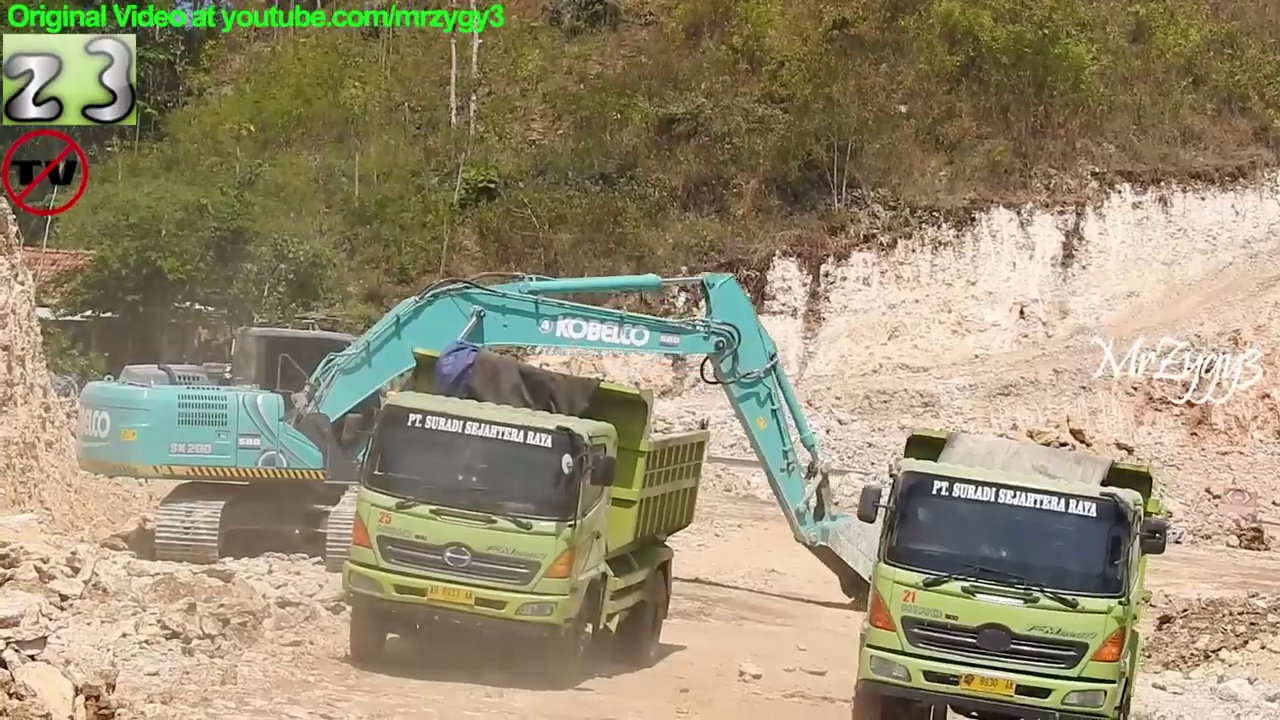excavator: (69, 262, 912, 621)
truck: (333, 341, 715, 674), (848, 426, 1181, 720)
